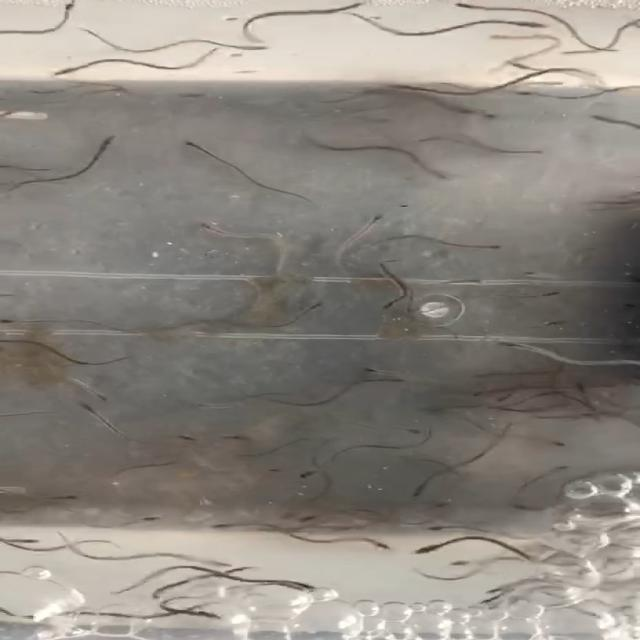active_glass_eel: (509, 264, 556, 281), (503, 59, 545, 77), (414, 540, 454, 558), (280, 574, 319, 592), (444, 0, 494, 14), (299, 462, 334, 482), (165, 85, 206, 102), (422, 163, 463, 180), (239, 26, 268, 50), (467, 596, 513, 611), (195, 222, 236, 238), (70, 398, 104, 417), (440, 554, 486, 568), (493, 339, 542, 352), (191, 608, 226, 626), (514, 144, 553, 160), (86, 388, 117, 408), (357, 538, 398, 553), (42, 491, 85, 505), (470, 238, 520, 250), (203, 519, 253, 531), (194, 553, 234, 568), (457, 275, 496, 290), (527, 318, 571, 331), (50, 62, 86, 77), (221, 431, 262, 443), (0, 316, 35, 330), (422, 519, 457, 533), (517, 24, 557, 36), (467, 109, 507, 121), (378, 80, 418, 92), (359, 363, 399, 375), (509, 87, 548, 99), (378, 375, 416, 387), (5, 533, 40, 546), (178, 138, 206, 154), (590, 112, 624, 125), (359, 215, 385, 232), (292, 510, 326, 523), (376, 297, 406, 311), (232, 44, 266, 56), (133, 514, 164, 527), (57, 0, 83, 15), (487, 31, 525, 41), (99, 134, 118, 154), (539, 436, 568, 449), (170, 433, 201, 445), (302, 299, 330, 312), (409, 483, 432, 497), (546, 460, 566, 476), (532, 289, 567, 298), (497, 390, 519, 403), (474, 386, 496, 398), (402, 423, 426, 434)
